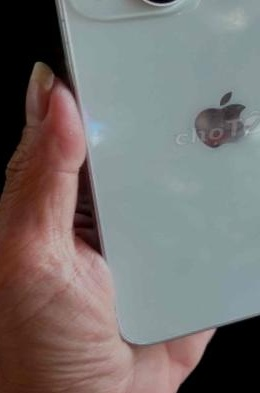scratch: (181, 87, 259, 155), (41, 0, 77, 74)
